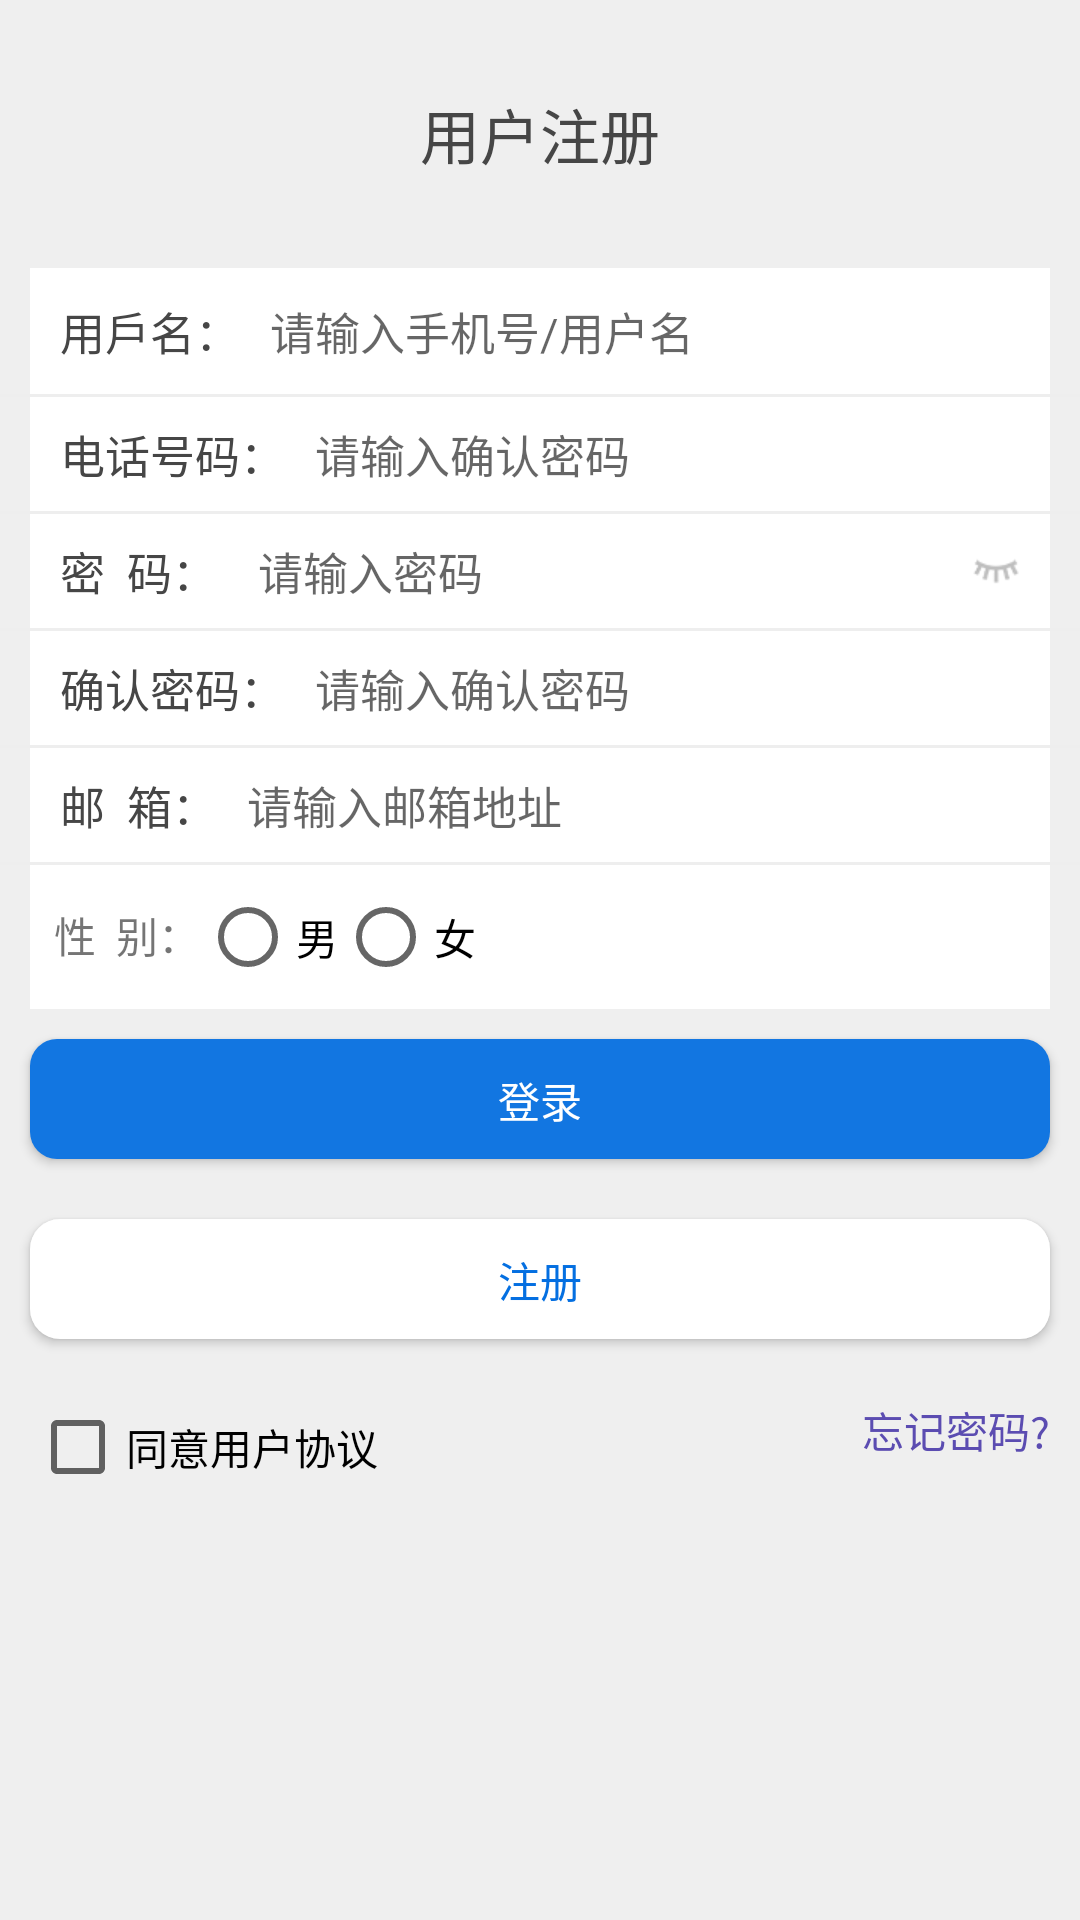

Named icons in this screenshot (1080x1920) and their centers, point (x, y):
password invisible: point (996, 571)
